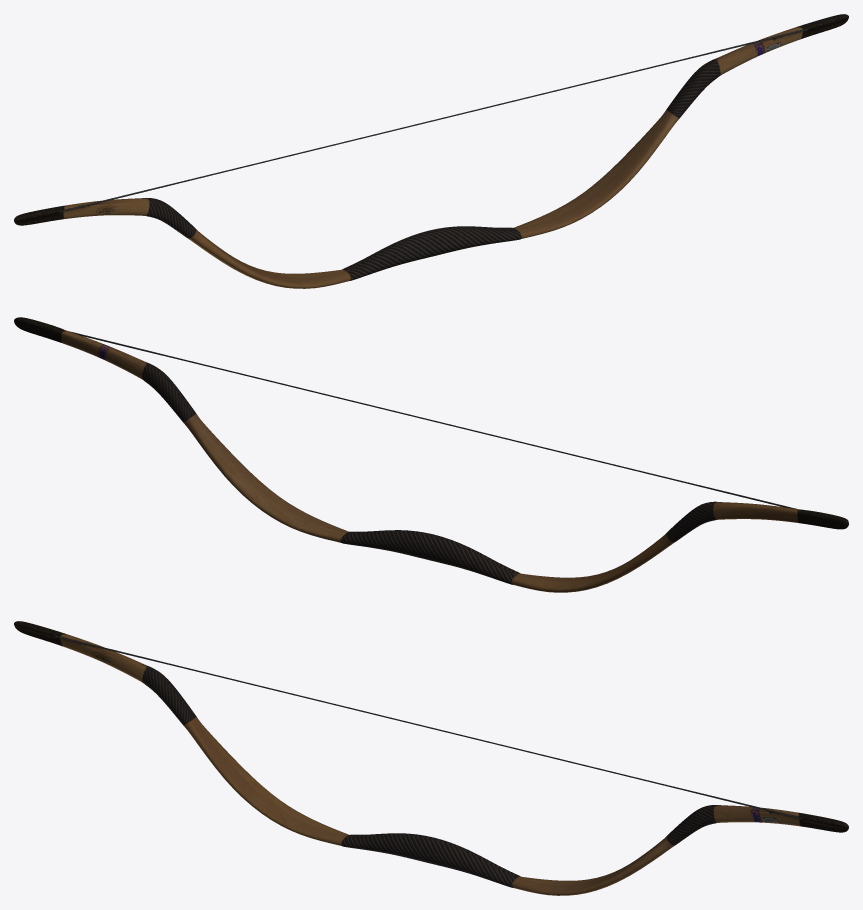
Rendered from arco.fbx.
3 renders of one model, top to bottom at view 1: azimuth 30°, elevation 25°; view 2: azimuth 150°, elevation 25°; view 3: azimuth 330°, elevation 25°, orthographic.
Visible parts, largest first — view 1: 10490_bow_v1; view 2: 10490_bow_v1; view 3: 10490_bow_v1.
Part boxes in pixels (left/top/right/bottom): 10490_bow_v1: left=14, top=14, right=848, bottom=288; 10490_bow_v1: left=14, top=317, right=848, bottom=592; 10490_bow_v1: left=14, top=621, right=848, bottom=895.
Size of the model in its own units: 157 by 25.81 by 5.42.
1 material, 1 textured.
